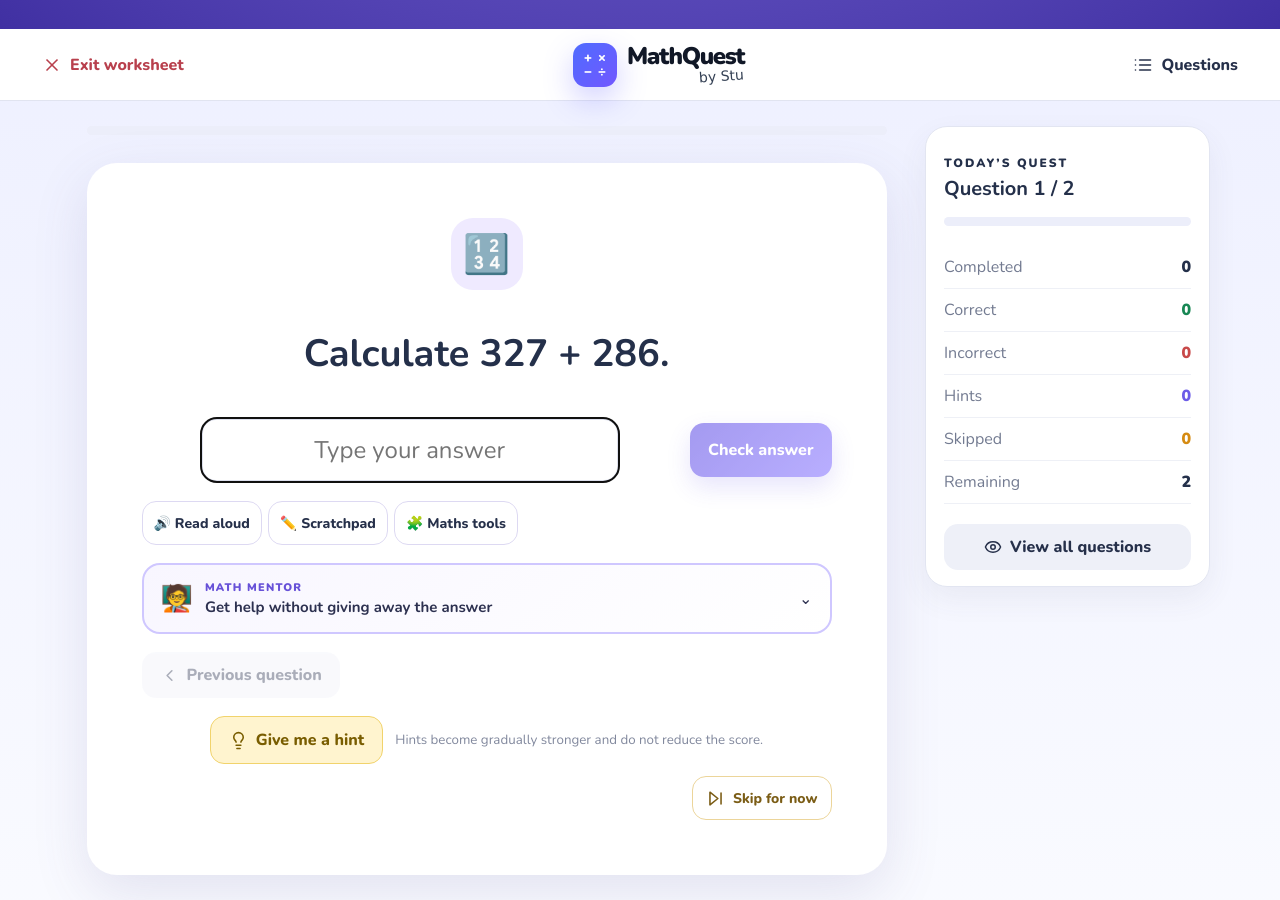
v0.38 iPad landscape answer feedback › blocks rapid Enter from submitting the same typed answer twice
(page scrolled)
Type "613" into the field labelled "your answer" at (410, 450), box 200,417 -> 620,483
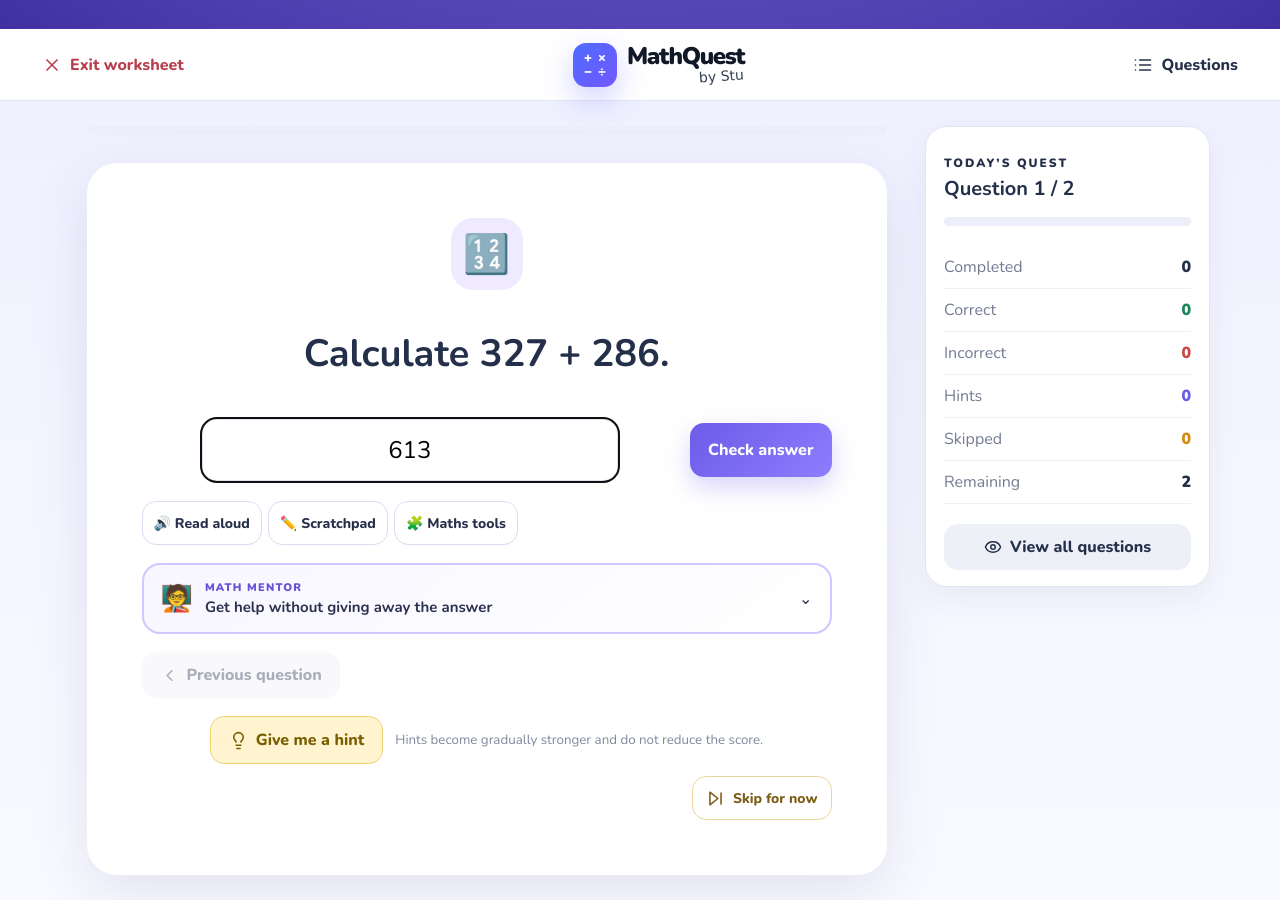
Press Enter in the field named "your answer", box 200,417 -> 620,483
Press Enter in the field named "your answer", box 200,417 -> 620,483
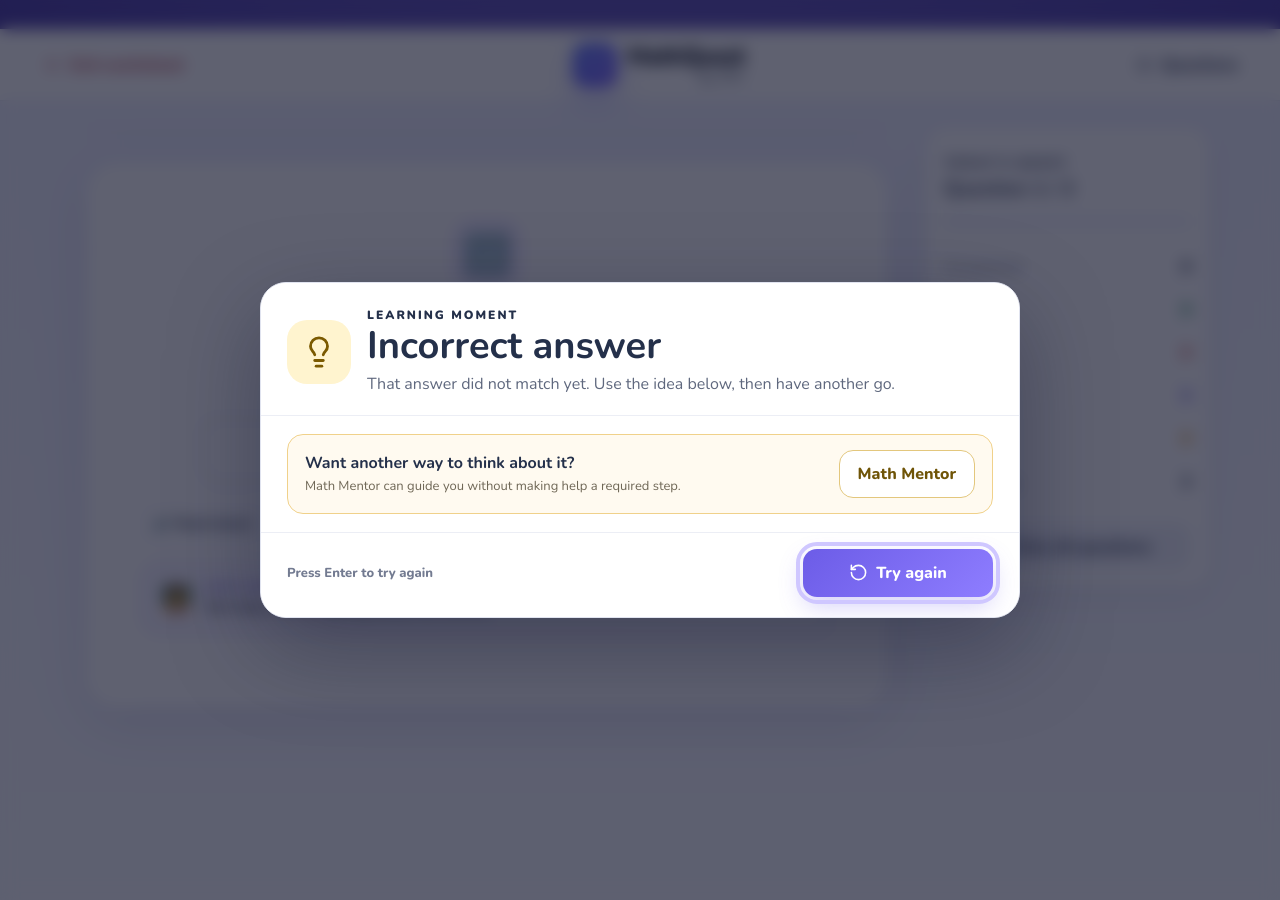
Expected: the dialog "Incorrect answer" is shown, 260,282 -> 1020,618
